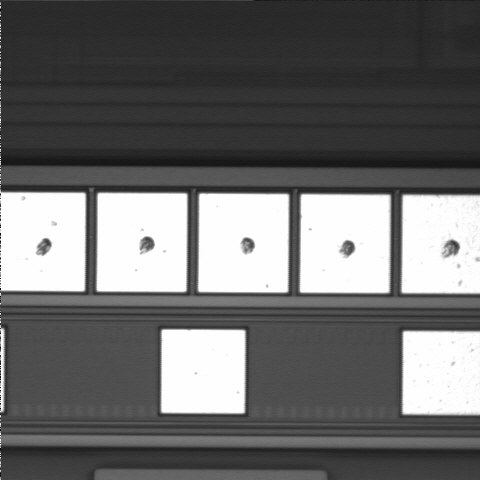pad: (198, 194, 289, 292), (97, 193, 187, 292), (300, 194, 390, 293), (161, 330, 245, 413)
